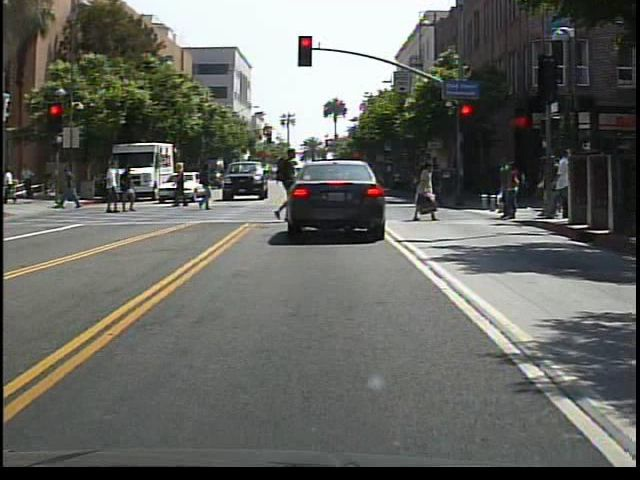person: (408, 158, 445, 228), (269, 146, 300, 214), (548, 149, 571, 223), (195, 162, 221, 215), (103, 161, 127, 218), (58, 163, 84, 214), (172, 163, 192, 211), (123, 166, 139, 214)
